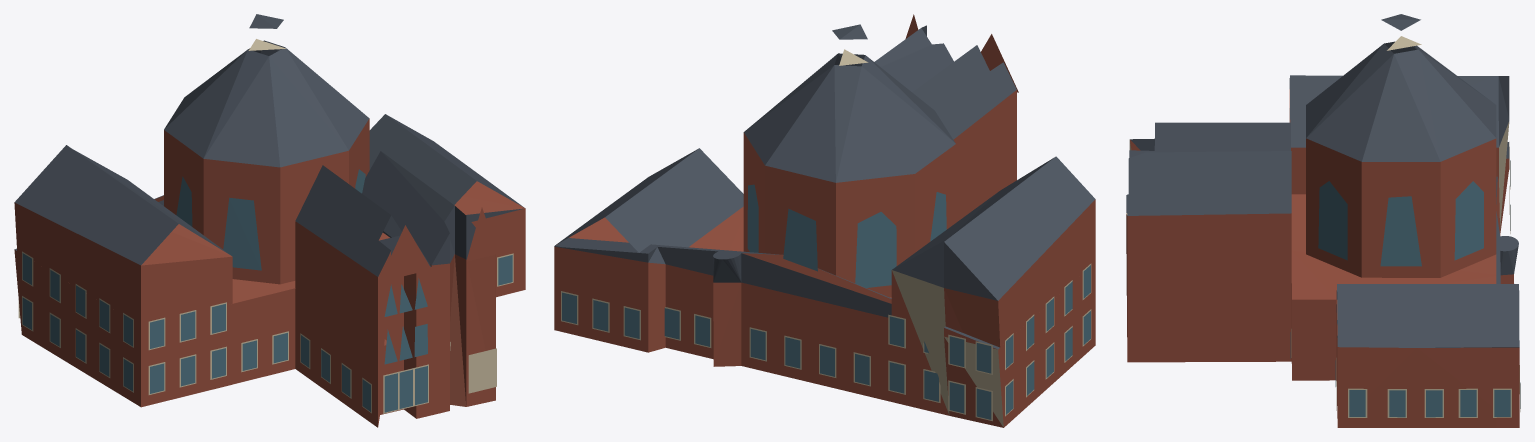
The model's file is amsterdam-dungeon.lod2.glb.
The picture shows the model from 3 angles, left to right: view 1: azimuth 30°, elevation 25°; view 2: azimuth 150°, elevation 25°; view 3: azimuth 270°, elevation 25°; orthographic projection. The views are drawn at different scales.
Parts seen in each view (by area): view 1: lod2; view 2: lod2; view 3: lod2.
Part boxes in pixels (box(x1,y1,x2,y2)): lod2: box(14, 14, 525, 427); lod2: box(554, 14, 1095, 427); lod2: box(1126, 14, 1520, 427).
Bounding box in the file's own units: 40.26 × 27.11 × 32.63.
